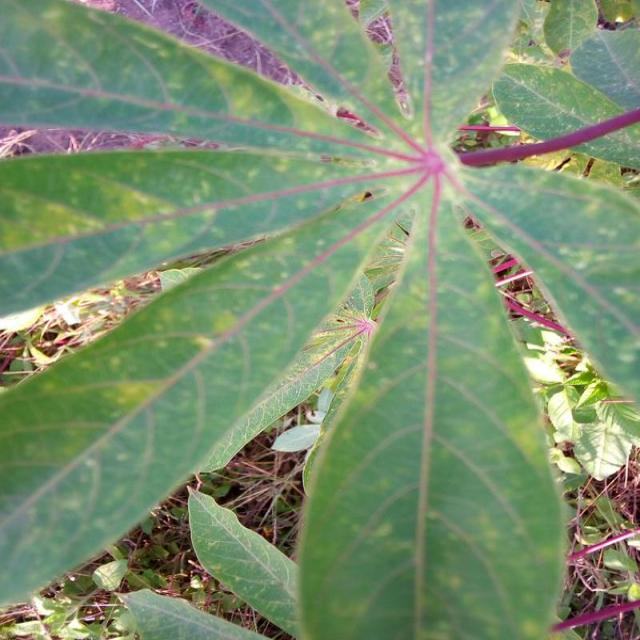cassava leaf: (0, 1, 638, 637), (294, 189, 568, 638)
